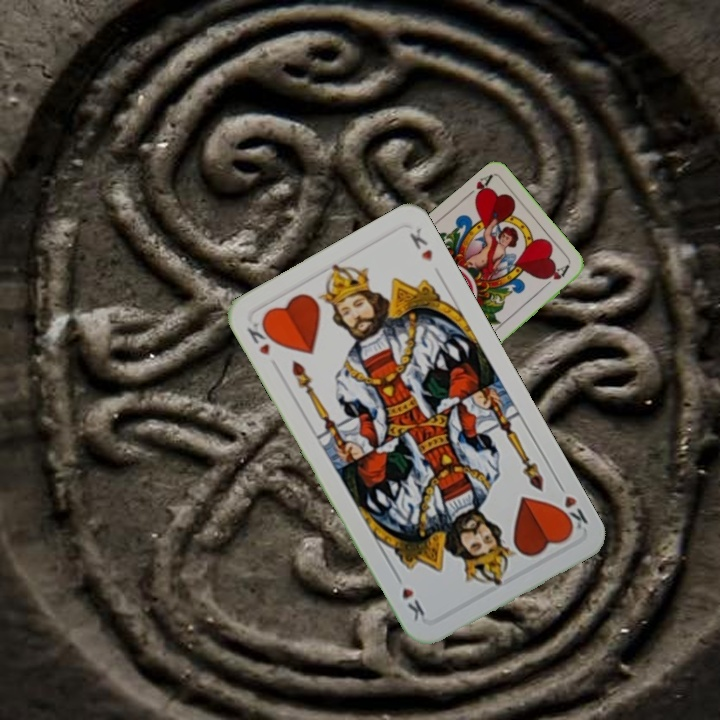HA: (460, 171, 494, 203)
HK: (553, 477, 591, 535), (243, 315, 278, 359)
